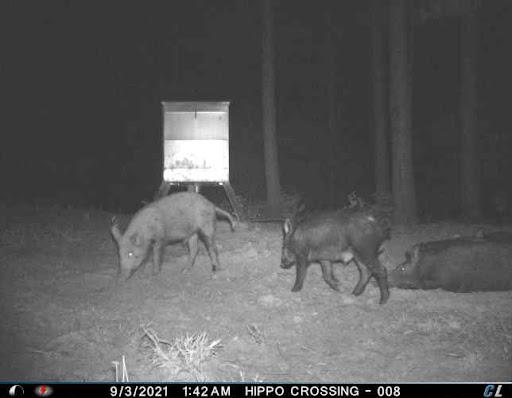Hog: (105, 180, 230, 292), (273, 205, 407, 305), (387, 229, 512, 298)
